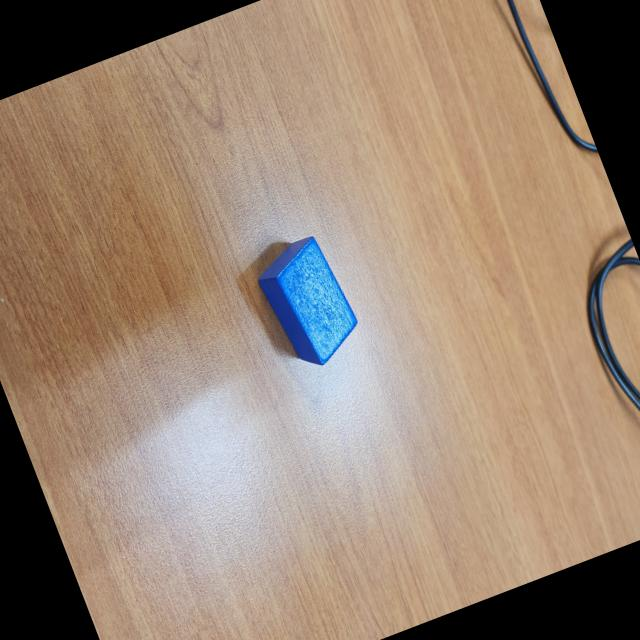blue: (250, 231, 369, 376)
